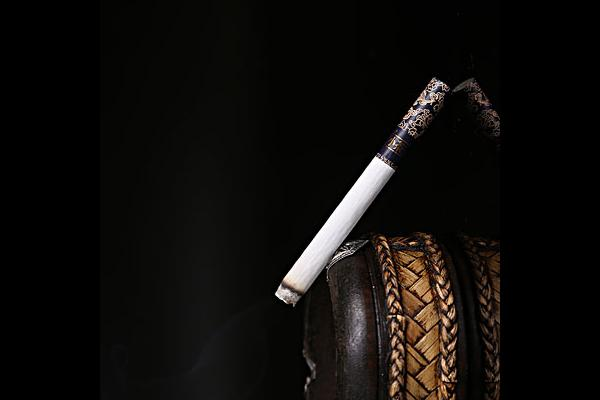Cigarette: (274, 75, 451, 304)
